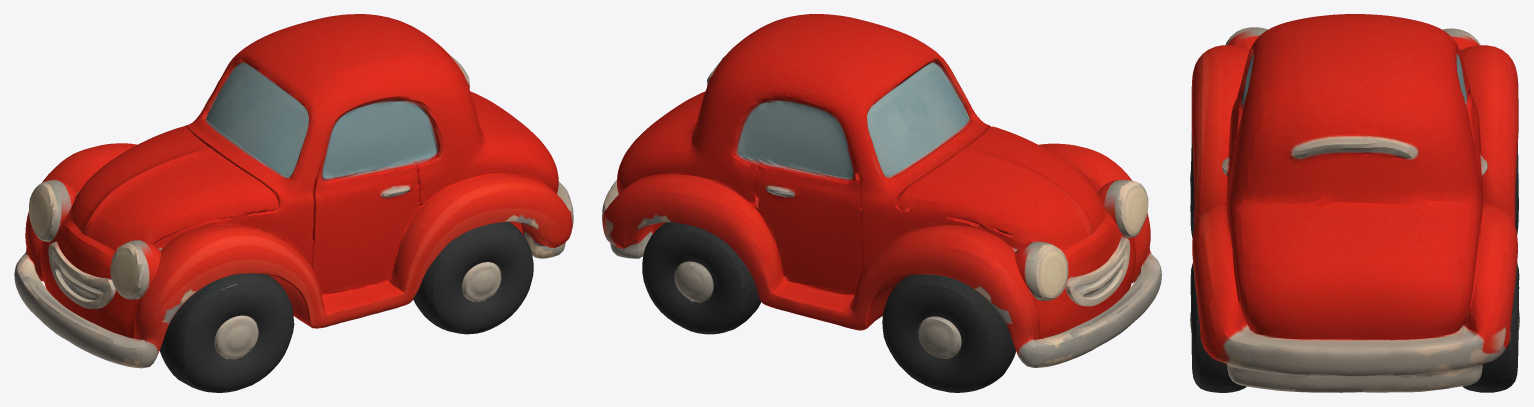
Rendered from toy_car.glb.
3 renders of one model, left to right at view 1: azimuth 30°, elevation 25°; view 2: azimuth 150°, elevation 25°; view 3: azimuth 270°, elevation 25°, orthographic. The views are drawn at different scales.
Visible parts, largest first — view 1: Mesh0; view 2: Mesh0; view 3: Mesh0.
Part boxes in pixels (x1=…): Mesh0: x1=14, y1=14, x2=573, y2=392; Mesh0: x1=602, y1=14, x2=1161, y2=392; Mesh0: x1=1190, y1=14, x2=1519, y2=392.
Size of the model in its own units: 1.9 by 0.9968 by 0.955.
Materials: 1 (1 with a texture image).
